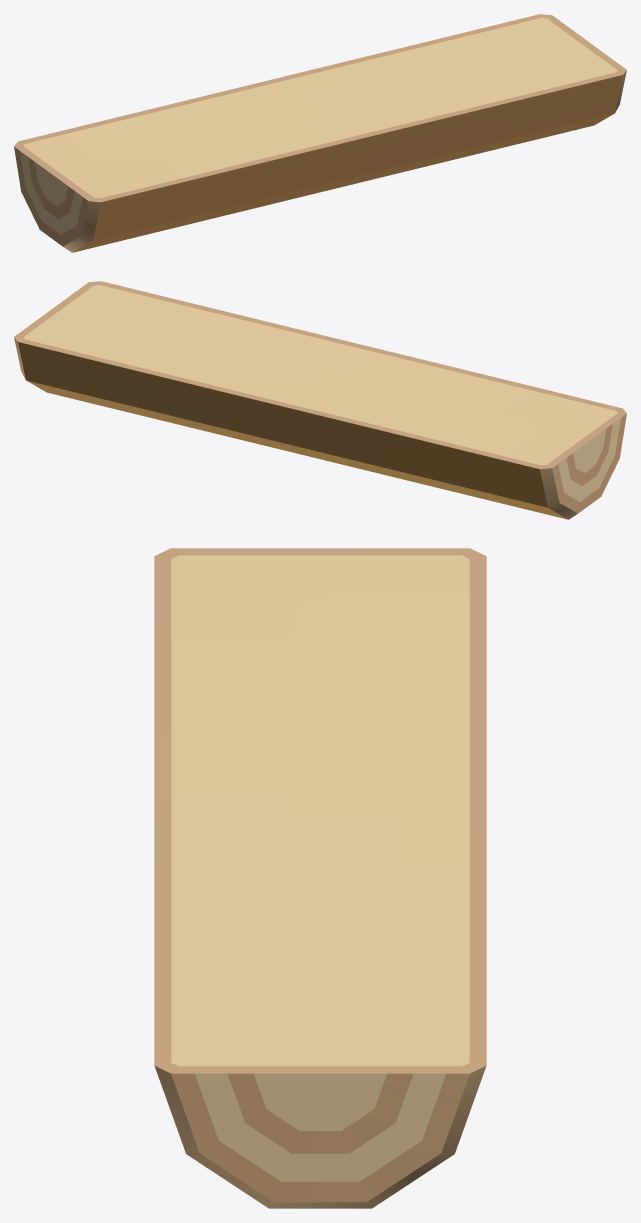
The model's file is Split_Log.fbx.
3 views of the same model, one above another, from view 1: azimuth 30°, elevation 25°; view 2: azimuth 150°, elevation 25°; view 3: azimuth 270°, elevation 25° (orthographic). The views are drawn at different scales.
Parts seen in each view (by area): view 1: polySurface20; view 2: polySurface20; view 3: polySurface20.
Boxes of the visible parts, left/top/right/bottom form: polySurface20: left=14, top=14, right=626, bottom=252; polySurface20: left=14, top=281, right=626, bottom=519; polySurface20: left=154, top=548, right=486, bottom=1208.
Size of the model in its own units: 204 by 25.91 by 54.49.
